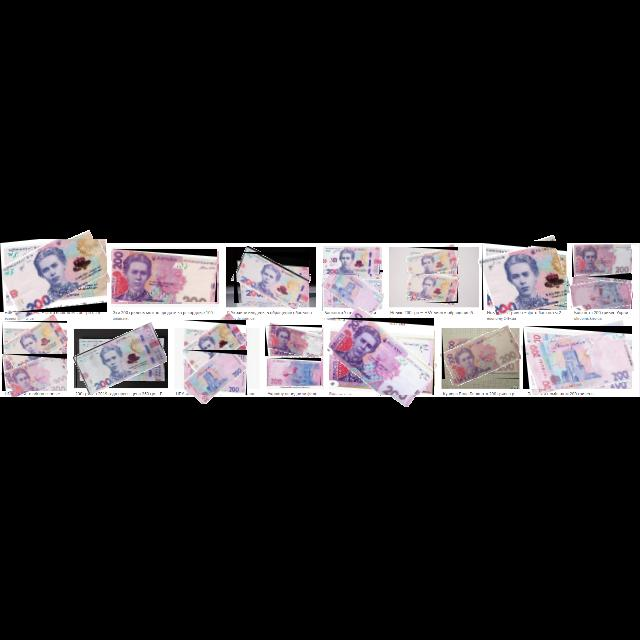200uah: (329, 318, 435, 396), (0, 239, 108, 313), (523, 326, 633, 390), (482, 241, 568, 311), (112, 249, 218, 303), (76, 330, 166, 388), (234, 252, 310, 304), (442, 332, 520, 380), (183, 320, 247, 366), (184, 350, 248, 396), (2, 321, 68, 365), (322, 270, 384, 312), (2, 354, 68, 392), (571, 274, 633, 310), (572, 244, 632, 278), (265, 325, 323, 357), (323, 245, 381, 275), (407, 272, 459, 304), (268, 358, 322, 386), (407, 247, 459, 275)
